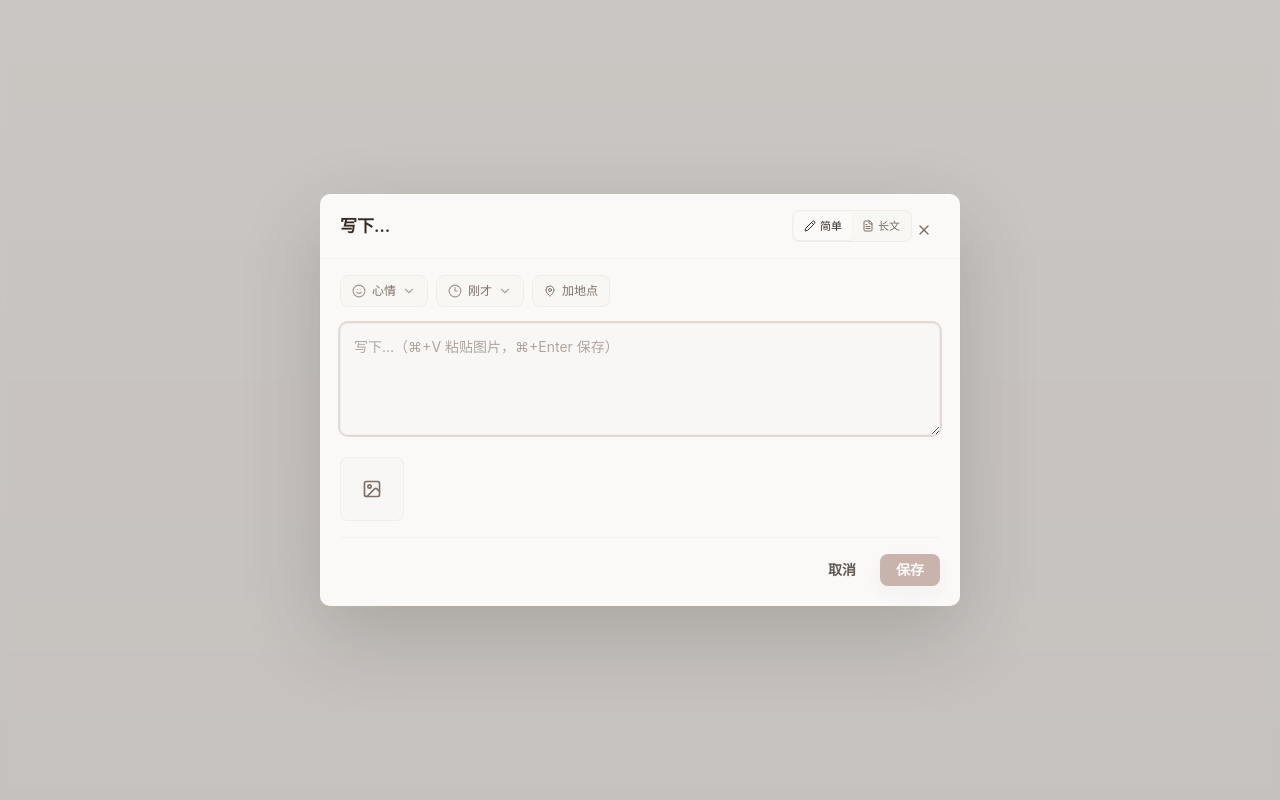
Test: QuickEntrySheet › enables save once body has content
This screenshot has width=1280, height=800.
Type "今天还行" into the text box with placeholder "写下…（⌘+V 粘贴图片，⌘+Enter 保存）".
click(640, 379); type("今天还行")  # box x1=340 y1=323 x2=940 y2=435
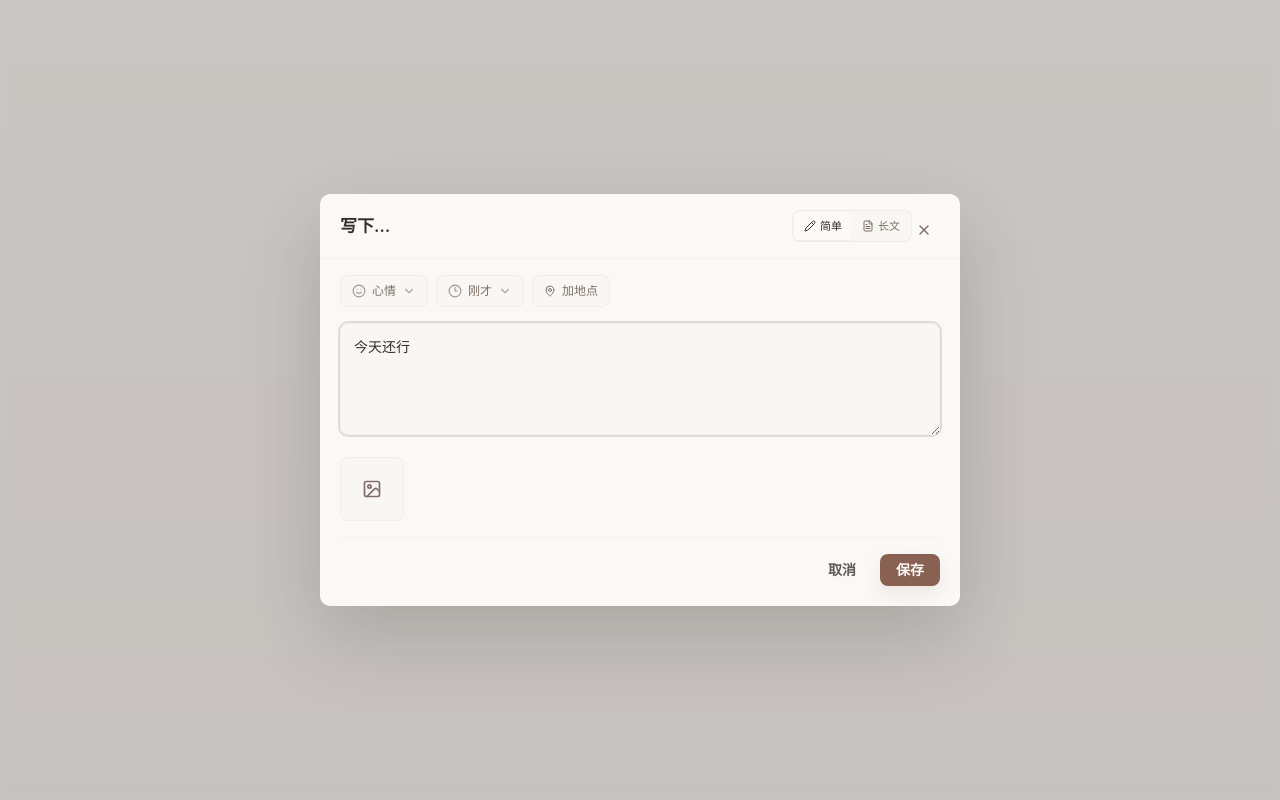
Check: the button "保存" is enabled, box x1=880 y1=554 x2=940 y2=586
